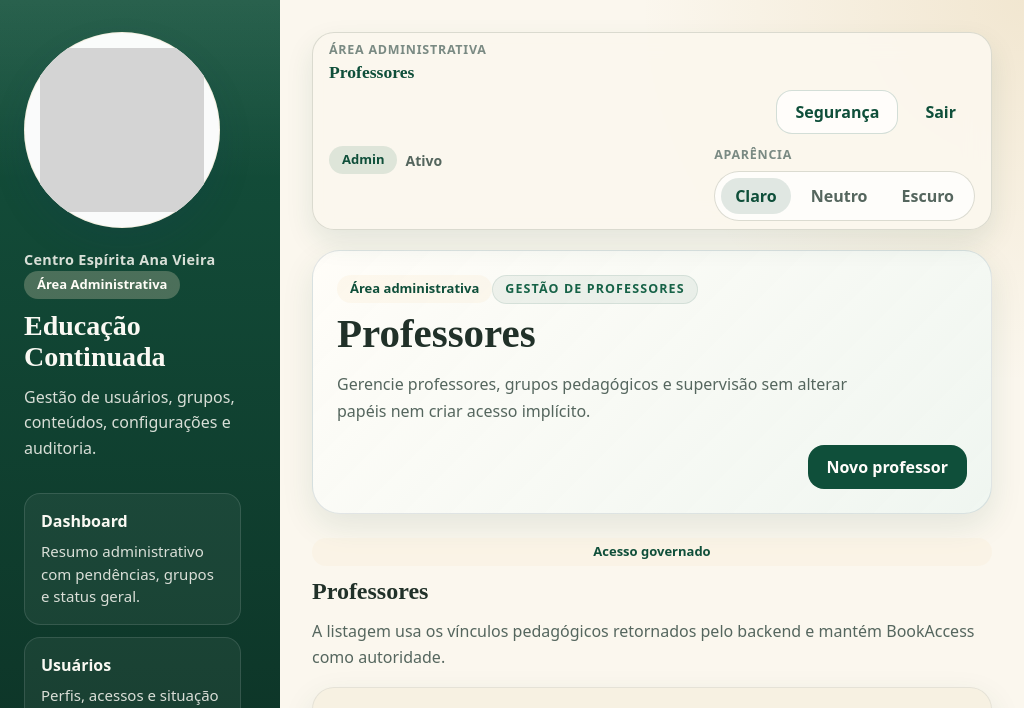
AdminTeachersPage › cadastra professor exigindo grupo pedagógico e sem escolher senha ou papel
Click the button "Novo professor" at (887, 467), box [808,445,967,489]
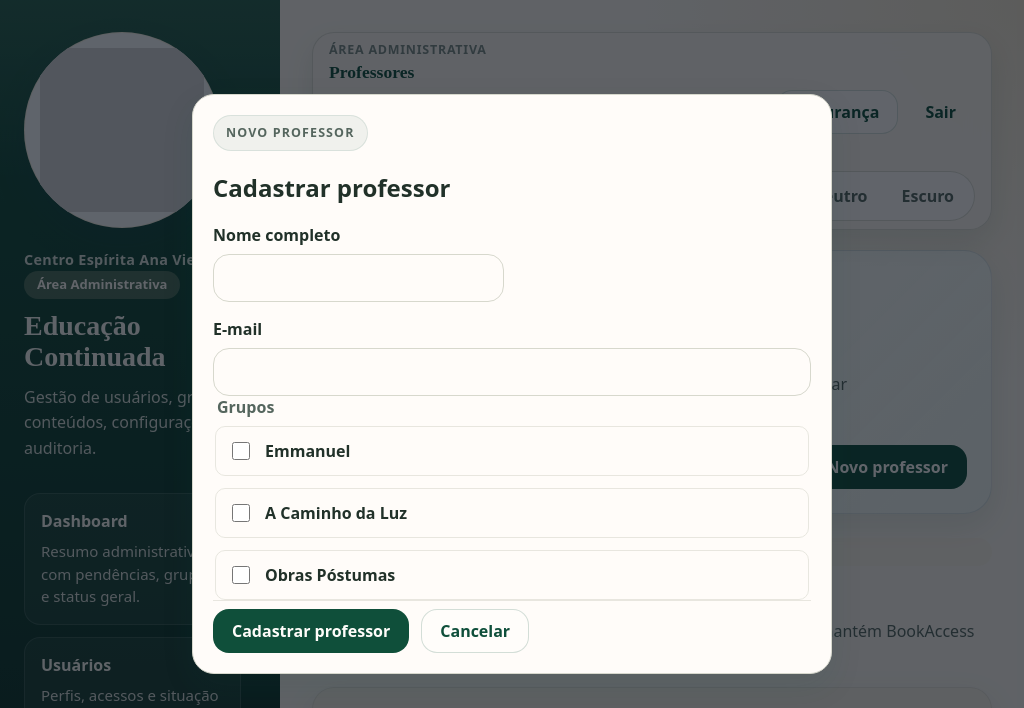
Type "Profa. Nova" into the field labelled "Nome completo" at (358, 278), box [213,254,504,302]
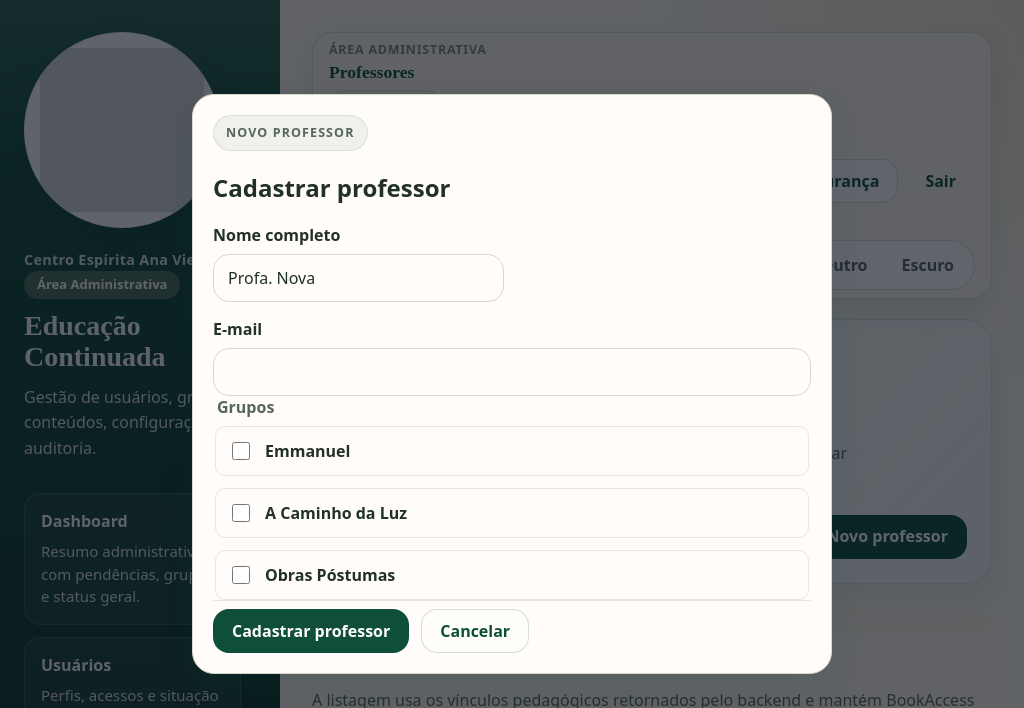
Type "nova@example.com" into the field labelled "E-mail" at (512, 372), box [213,348,811,396]
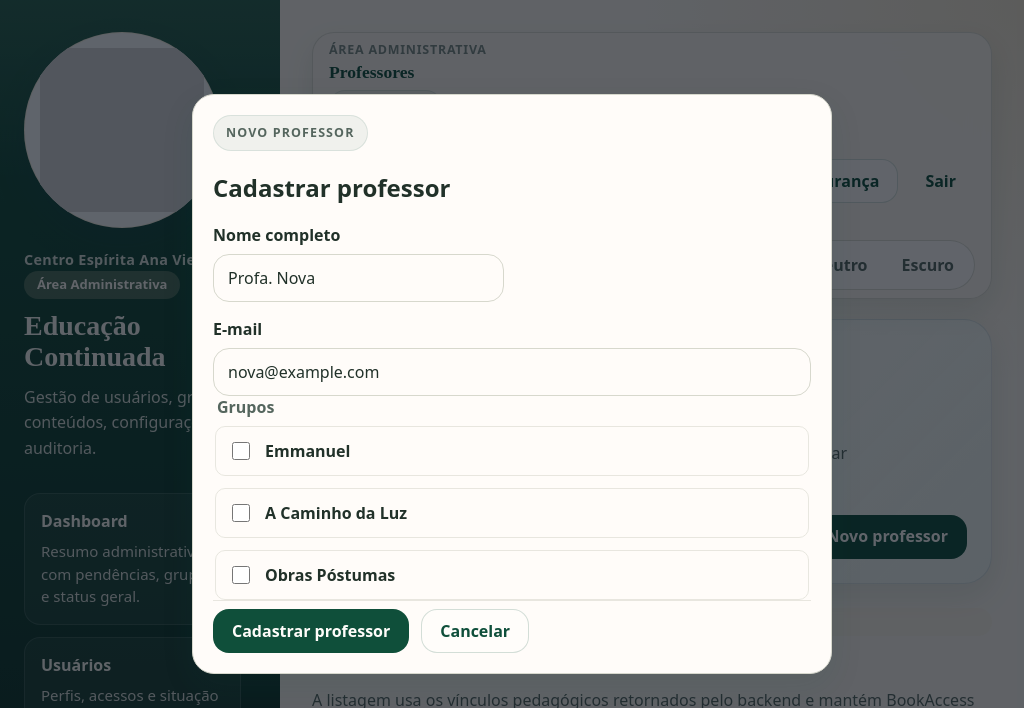
Click the checkbox labelled "Obras Póstumas" at (241, 575), box [232,566,250,584]
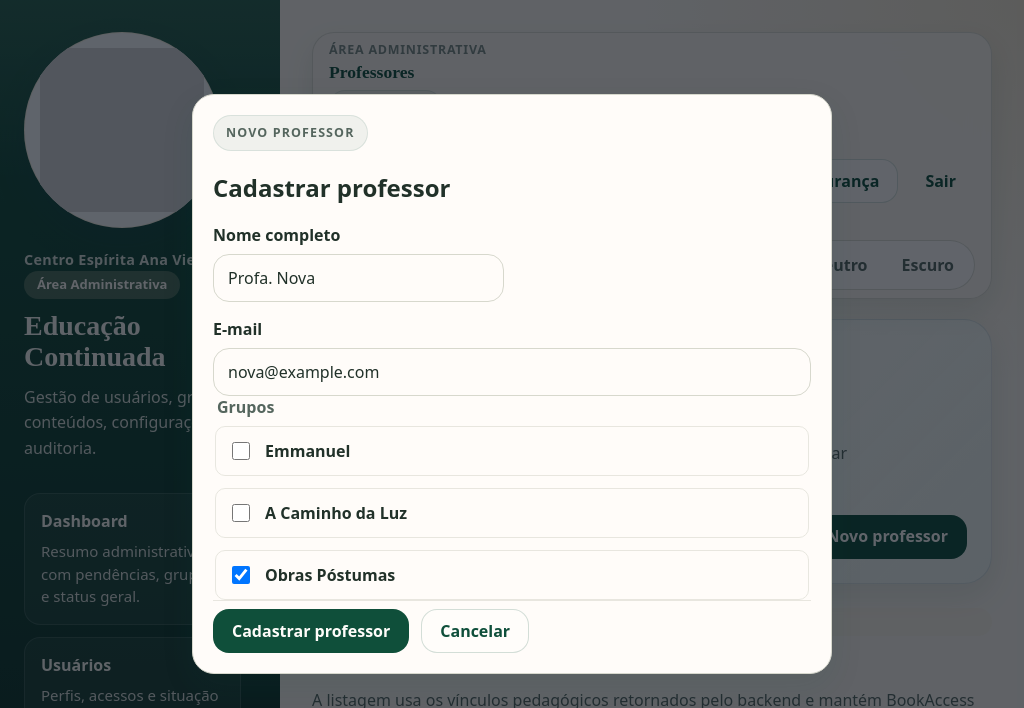
Click the button "Cadastrar professor" at (311, 631), box [213,609,409,653]
(page scrolled)
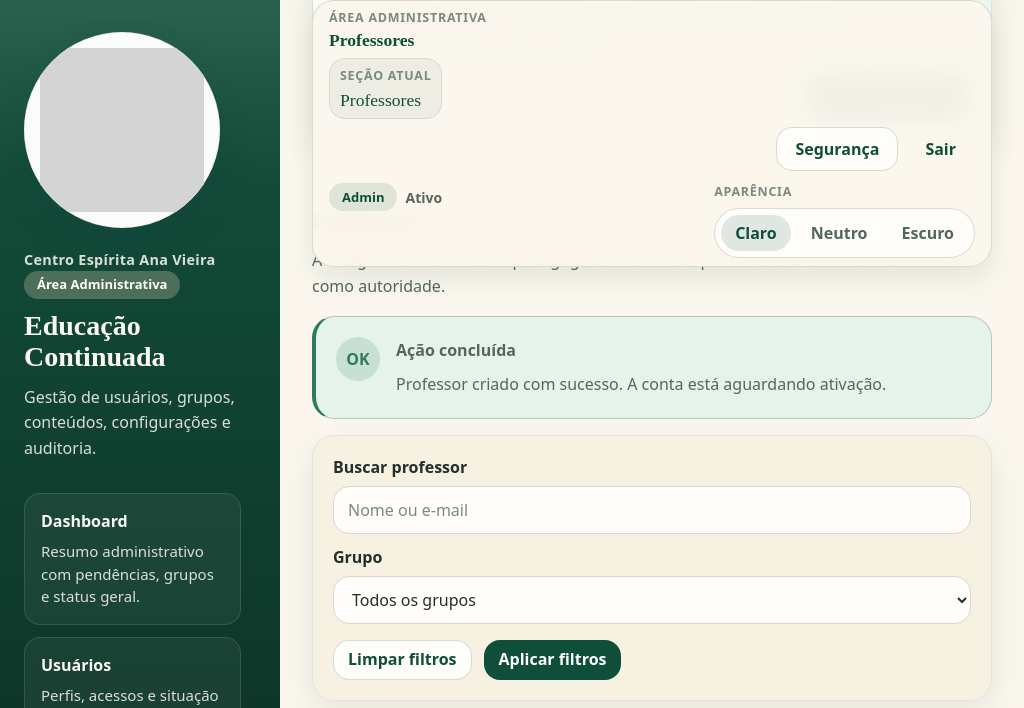
Result: the text "Professor criado com sucesso. A conta está aguardando ativação." is shown at [396,371,971,398]
